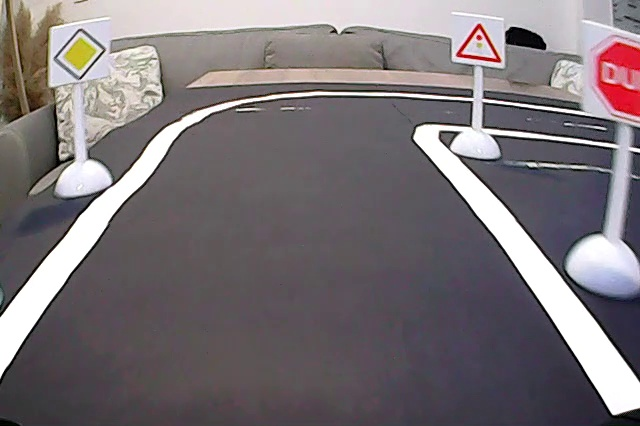red light: (454, 15, 507, 67)
stop sign: (584, 24, 640, 123)
